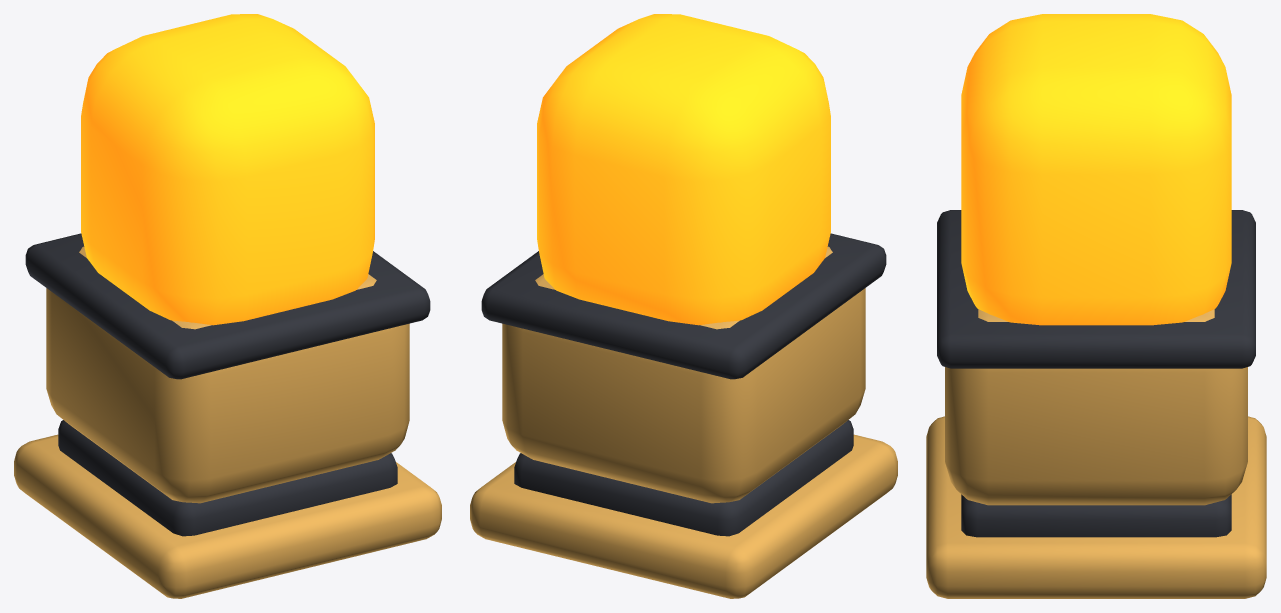
The model's file is slug.glb.
The picture shows the model from 3 angles, left to right: view 1: azimuth 30°, elevation 25°; view 2: azimuth 150°, elevation 25°; view 3: azimuth 270°, elevation 25°; orthographic projection. The views are drawn at different scales.
Visible parts, largest first — view 1: casing, head; view 2: casing, head; view 3: casing, head.
Part boxes in pixels (bbox=[...]): casing: bbox=[14, 233, 441, 598]; head: bbox=[81, 14, 374, 325]; casing: bbox=[470, 233, 897, 598]; head: bbox=[537, 14, 830, 325]; casing: bbox=[926, 210, 1266, 598]; head: bbox=[961, 14, 1231, 325].
Bounding box in the file's own units: 0.126 × 0.2 × 0.126.
